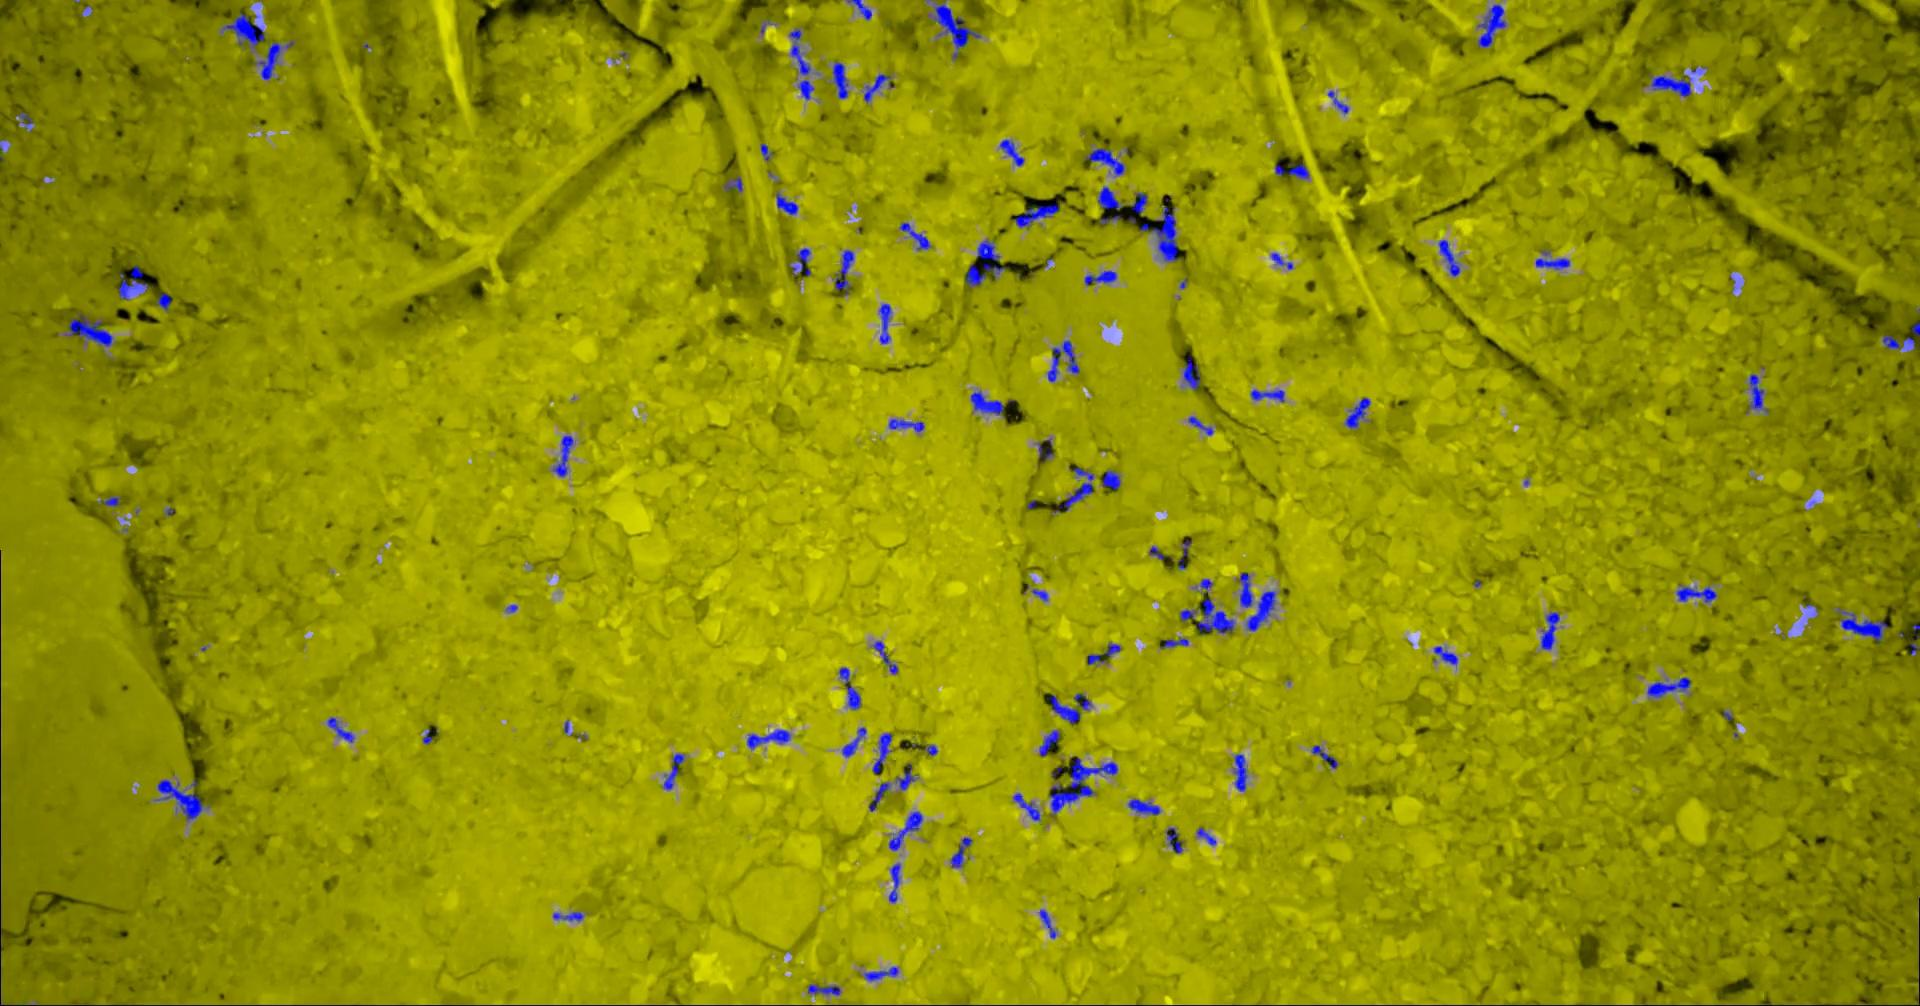ant: (933, 0, 980, 58), (1139, 205, 1178, 260), (154, 779, 202, 819), (965, 239, 1004, 286), (1837, 607, 1887, 641), (63, 312, 112, 345), (221, 13, 264, 48), (1059, 467, 1093, 511), (1196, 594, 1234, 633), (888, 810, 922, 850), (1048, 340, 1079, 381), (1049, 694, 1091, 723), (1477, 4, 1505, 47), (1246, 591, 1275, 630), (1084, 149, 1124, 175), (1015, 203, 1058, 227), (253, 42, 281, 79), (118, 265, 149, 298), (789, 28, 810, 74), (1650, 74, 1690, 97), (838, 667, 860, 709), (745, 729, 790, 749), (1647, 677, 1690, 697), (863, 72, 893, 102), (552, 434, 573, 476), (834, 250, 853, 293), (899, 222, 930, 249), (970, 390, 1003, 414), (1437, 239, 1459, 276), (1343, 398, 1369, 428), (872, 733, 891, 774), (872, 641, 897, 673), (1012, 793, 1039, 821), (1086, 643, 1120, 664), (663, 753, 683, 789), (841, 727, 865, 756), (1540, 612, 1559, 649), (328, 716, 354, 742), (950, 837, 971, 868), (1535, 250, 1570, 269), (1676, 586, 1716, 602), (999, 138, 1023, 165), (1097, 185, 1123, 210), (869, 782, 890, 810), (1310, 746, 1336, 768), (1128, 798, 1159, 815), (832, 61, 847, 98), (791, 246, 810, 276), (1233, 753, 1247, 791), (1882, 334, 1914, 351), (1274, 163, 1308, 178), (1183, 356, 1199, 390), (895, 763, 916, 789), (879, 304, 891, 343), (888, 862, 900, 902), (1749, 373, 1763, 409), (1037, 909, 1055, 937), (1327, 90, 1349, 113), (775, 192, 797, 213), (1039, 730, 1059, 754), (888, 418, 924, 431), (863, 967, 897, 981), (847, 0, 871, 19), (1432, 645, 1457, 664), (1187, 417, 1213, 434), (1239, 572, 1252, 607), (1084, 271, 1116, 285), (1250, 389, 1284, 401), (1166, 827, 1182, 852), (1177, 539, 1190, 568), (1271, 251, 1291, 269), (1130, 192, 1147, 213), (15, 111, 33, 130), (808, 984, 841, 995), (1161, 636, 1189, 648), (1101, 470, 1119, 488), (1196, 827, 1215, 843), (797, 79, 813, 99), (552, 911, 583, 921), (723, 175, 742, 191), (155, 291, 170, 310), (1037, 442, 1051, 461), (759, 144, 773, 160), (1178, 608, 1195, 621), (100, 495, 119, 506), (1031, 588, 1048, 600)
